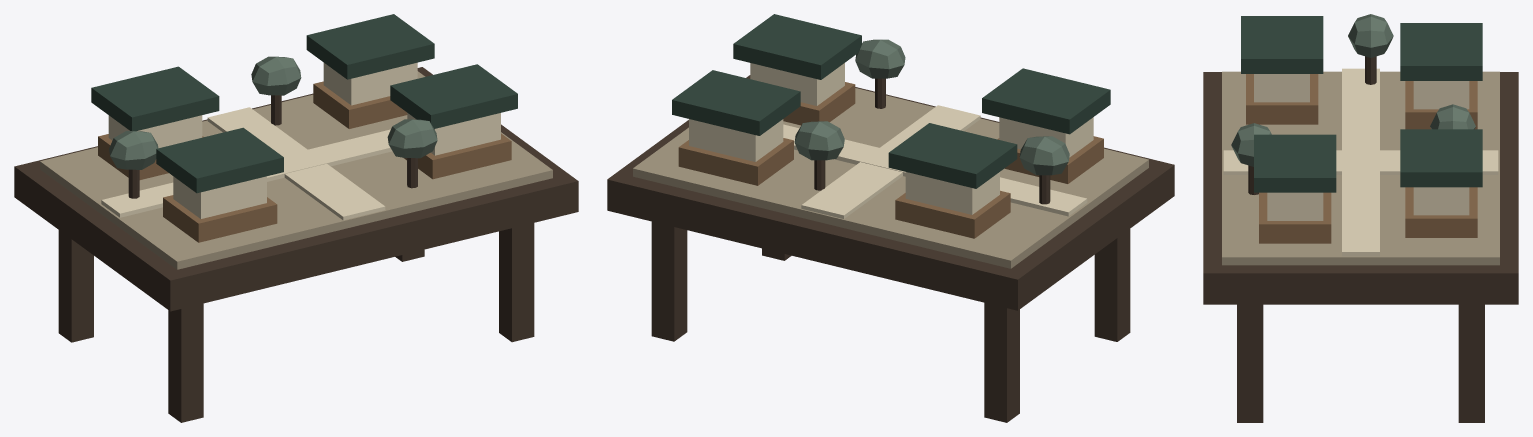
The model's file is 06_Museum_Diorama.fbx.
The picture shows the model from 3 angles, left to right: view 1: azimuth 30°, elevation 25°; view 2: azimuth 150°, elevation 25°; view 3: azimuth 270°, elevation 25°; orthographic projection.
Visible parts, largest first — view 1: Structure.005; view 2: Structure.005; view 3: Structure.005.
Part boxes in pixels (x1,y1,x2,y2): Structure.005: (14,14,578,422); Structure.005: (607,14,1174,422); Structure.005: (1203,14,1518,422).
Size of the model in its own units: 290 by 162 by 192.
